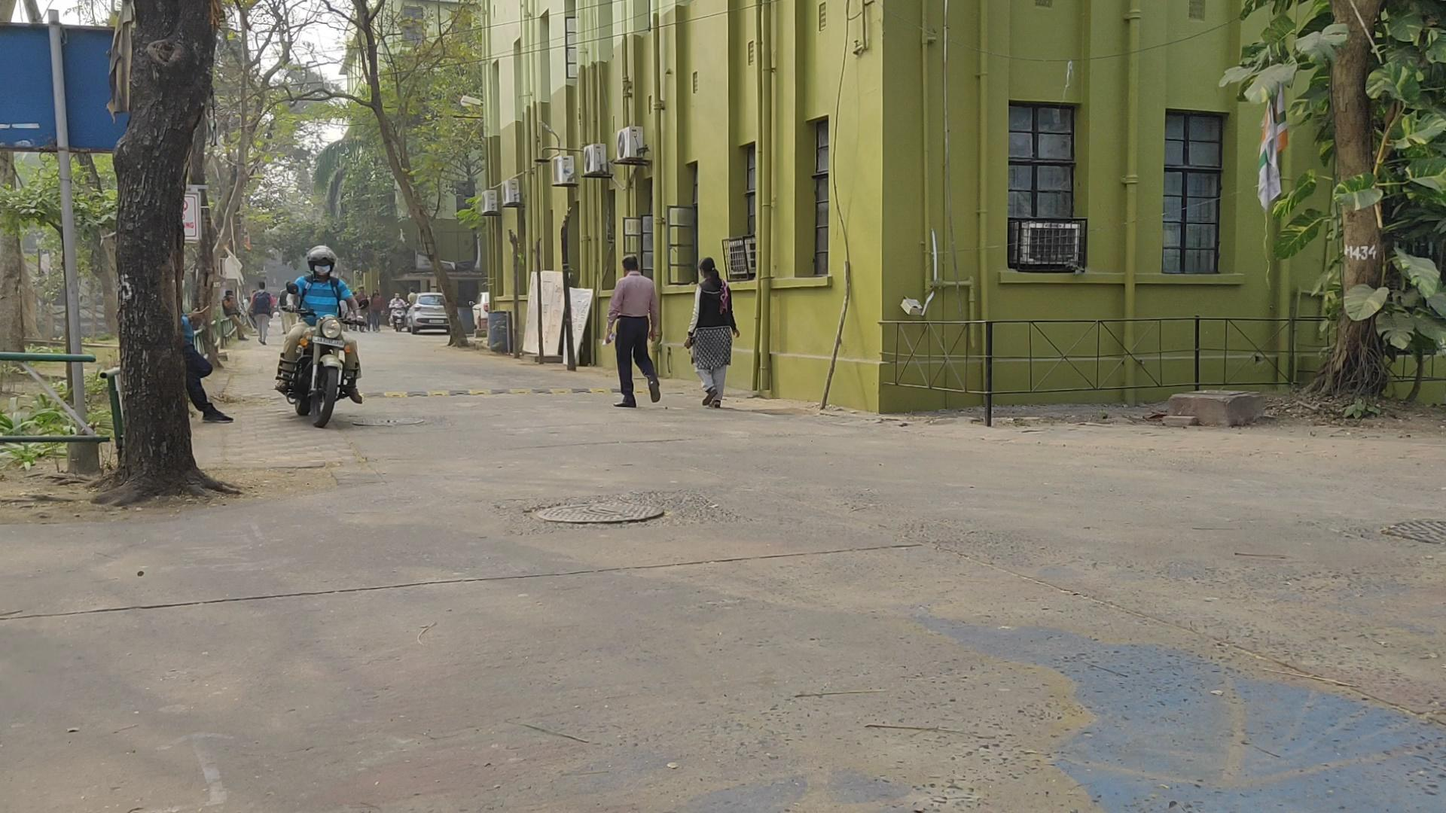bike: (387, 292, 410, 333)
car: (404, 291, 450, 336)
